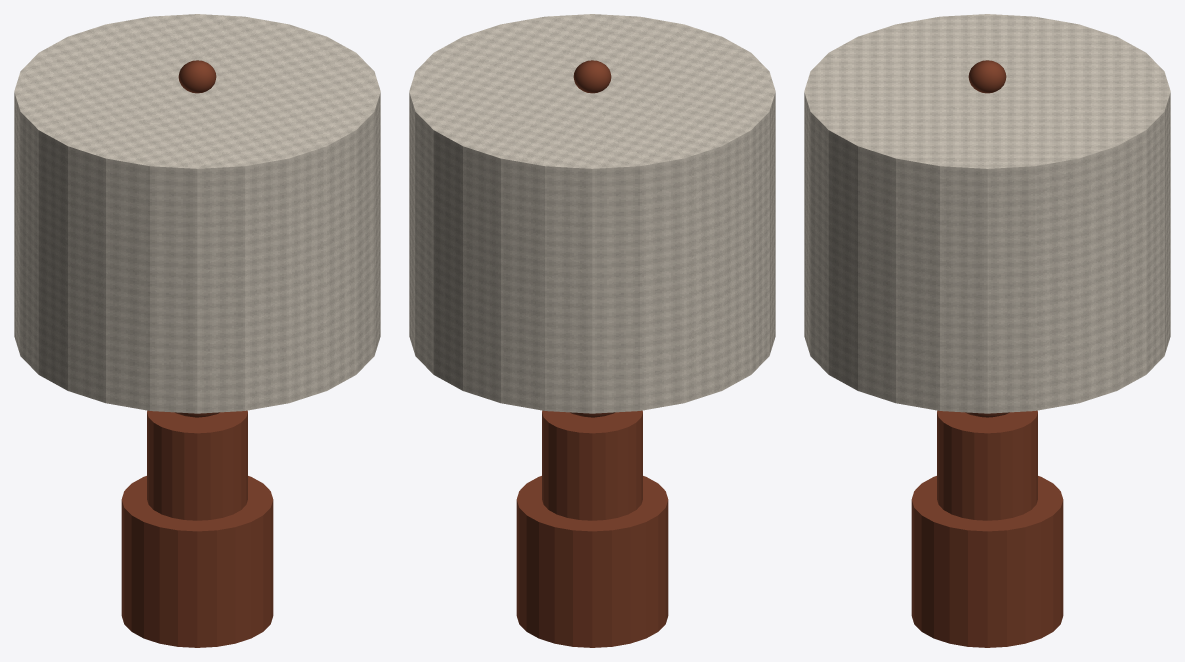
3 views of the same model, side by side, from view 1: azimuth 30°, elevation 25°; view 2: azimuth 150°, elevation 25°; view 3: azimuth 270°, elevation 25° (orthographic).
Parts seen in each view (by area): view 1: 6 shade, 1 base_lower, 2 base_upper, 7 finial; view 2: 6 shade, 1 base_lower, 2 base_upper, 7 finial; view 3: 6 shade, 1 base_lower, 2 base_upper, 7 finial.
Part boxes in pixels (left/top/right/bottom): 6 shade: left=14, top=14, right=380, bottom=413; 1 base_lower: left=121, top=476, right=273, bottom=647; 2 base_upper: left=147, top=410, right=247, bottom=520; 7 finial: left=178, top=60, right=216, bottom=93; 6 shade: left=409, top=14, right=775, bottom=413; 1 base_lower: left=516, top=476, right=668, bottom=647; 2 base_upper: left=542, top=410, right=642, bottom=520; 7 finial: left=573, top=60, right=611, bottom=93; 6 shade: left=804, top=14, right=1170, bottom=413; 1 base_lower: left=911, top=476, right=1063, bottom=647; 2 base_upper: left=937, top=410, right=1037, bottom=520; 7 finial: left=968, top=60, right=1006, bottom=93.
Bounding box in the file's own units: 0.6 × 1 × 0.6.
2 materials, 1 textured.
